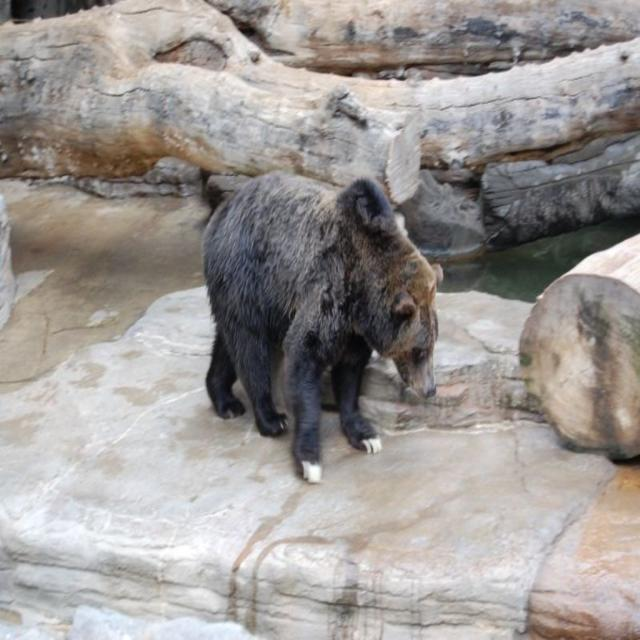Buffalo: (202, 177, 439, 480)
